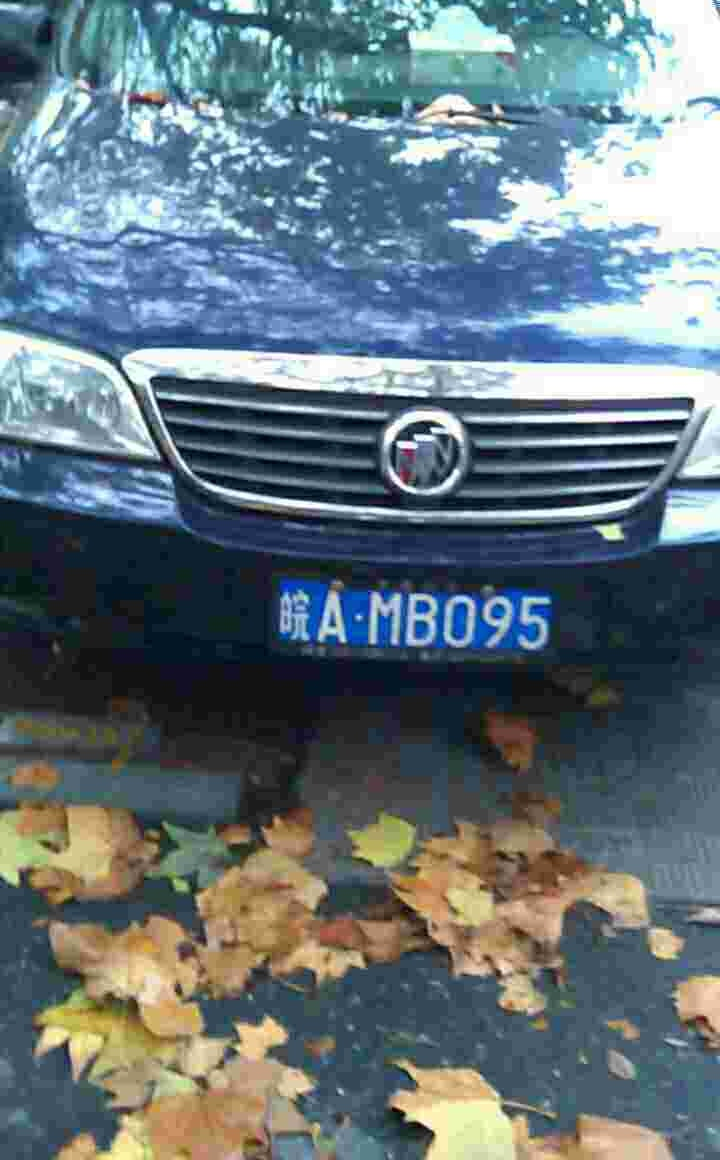car: (288, 573, 557, 655)
